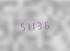five: (18, 21, 24, 31)
one: (25, 20, 31, 31), (32, 20, 38, 30)
six: (46, 19, 52, 29)
three: (39, 19, 45, 30)
